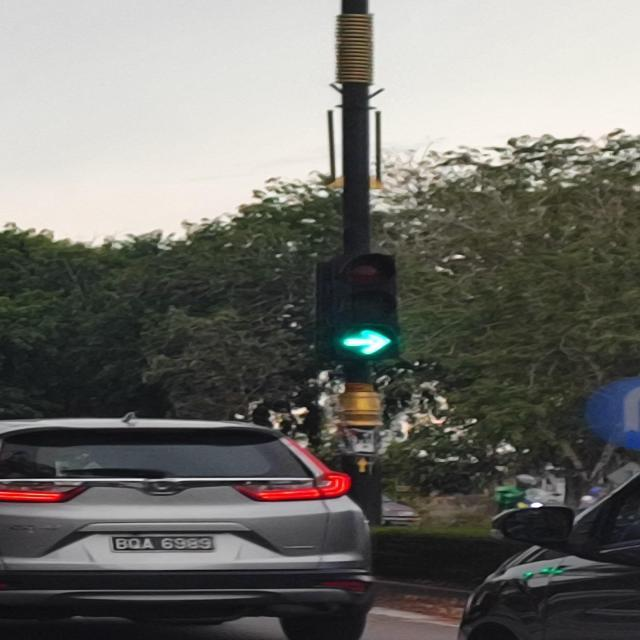green_light: (334, 255, 400, 357)
